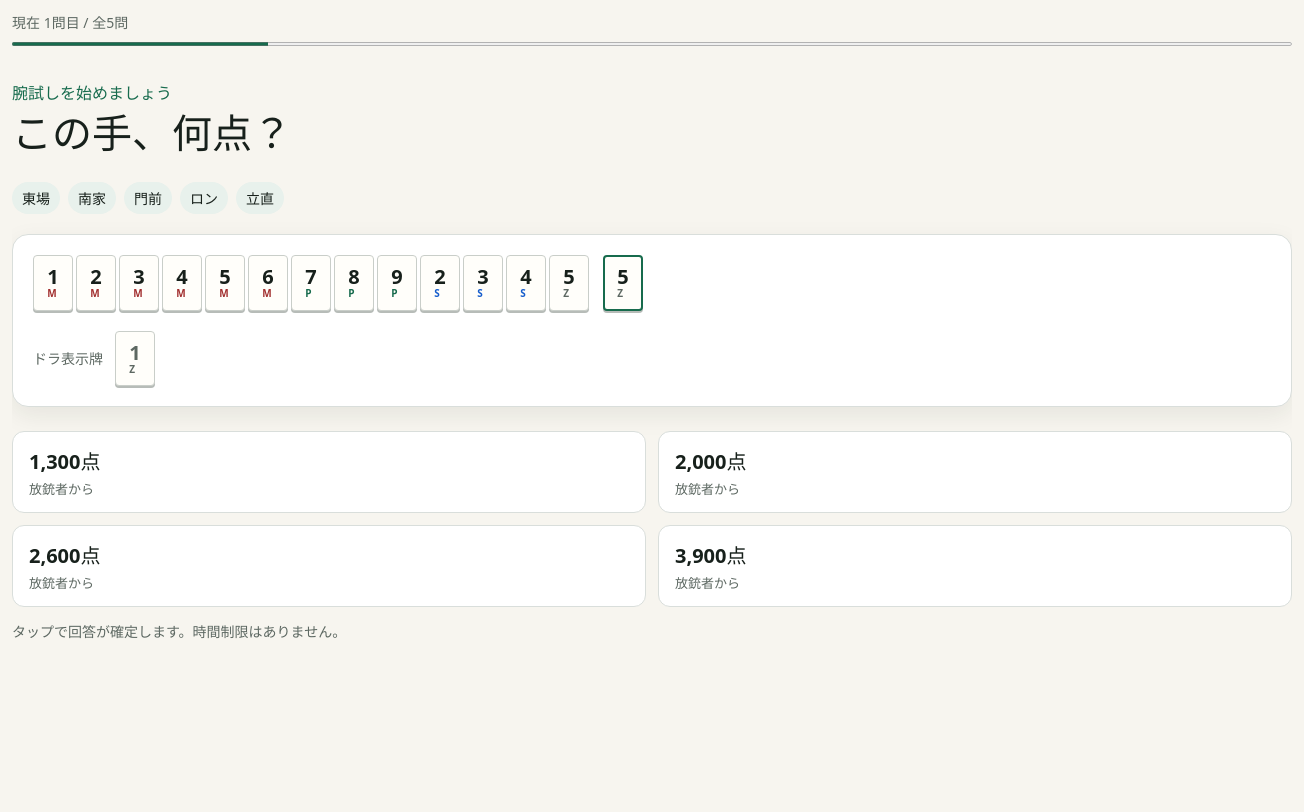
Test: QuizPage › skips the probe when diagnosis is ineligible
Click the button "2,000点 放銃者から" at (711, 462), box [658, 431, 1292, 513]
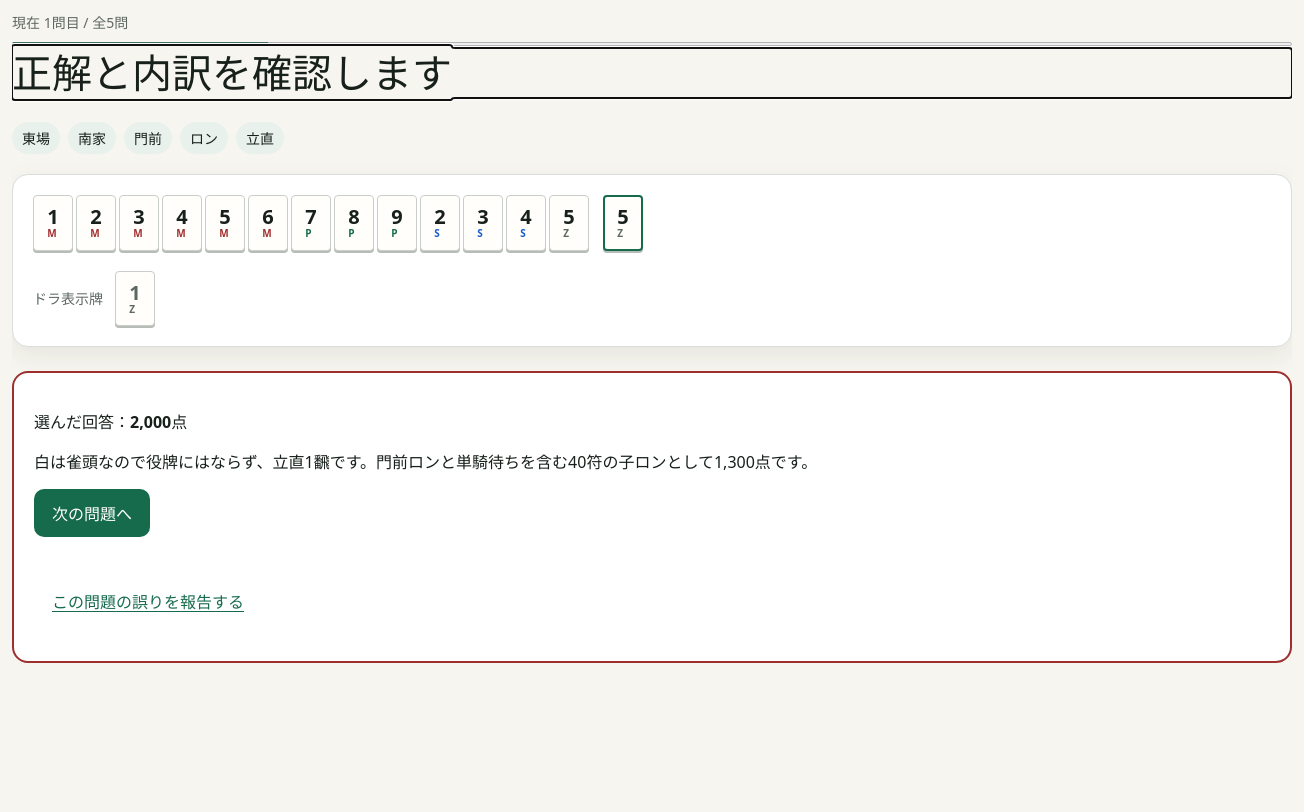
Expected: the heading "正解と内訳を確認します" is shown, [12, 45, 452, 100]
